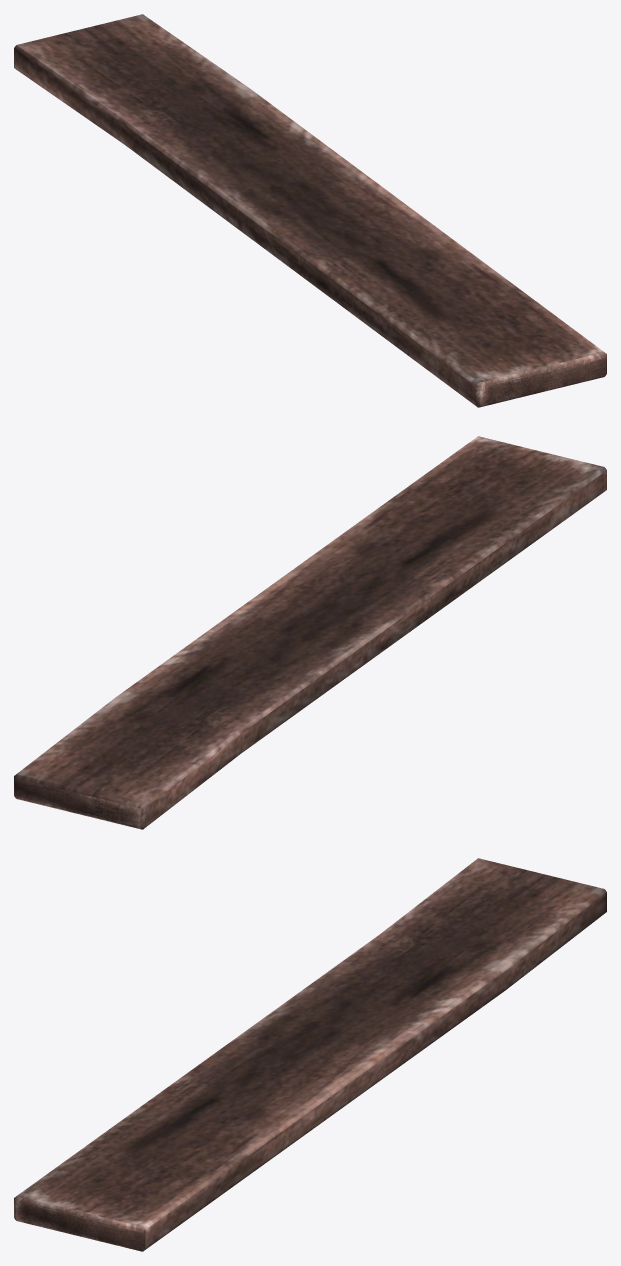
File: wooden_board01.dae
3 renders of one model, top to bottom at view 1: azimuth 30°, elevation 25°; view 2: azimuth 150°, elevation 25°; view 3: azimuth 330°, elevation 25°, orthographic.
Visible parts, largest first — view 1: pCube2; view 2: pCube2; view 3: pCube2.
Part boxes in pixels (x1,y1,x2,y2): pCube2: (14,14,606,407); pCube2: (14,436,606,829); pCube2: (14,858,606,1251).
Bounding box in the file's own units: 0.2531 × 0.0443 × 1.5.
